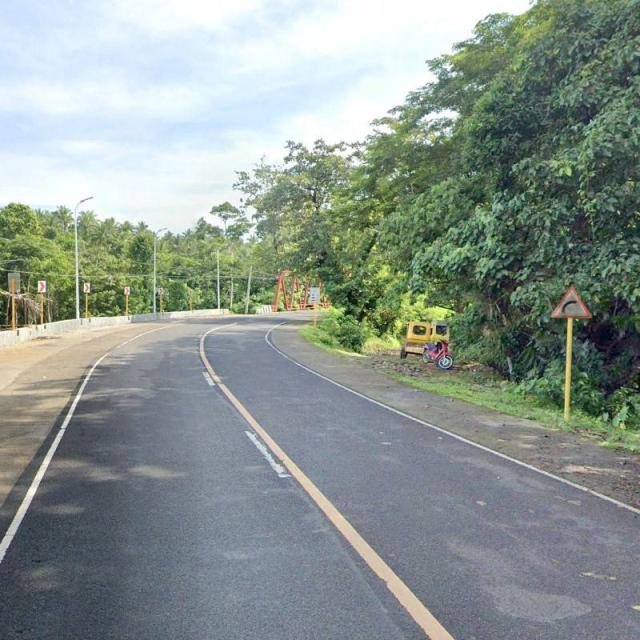warn_right_curve: (551, 285, 592, 318)
